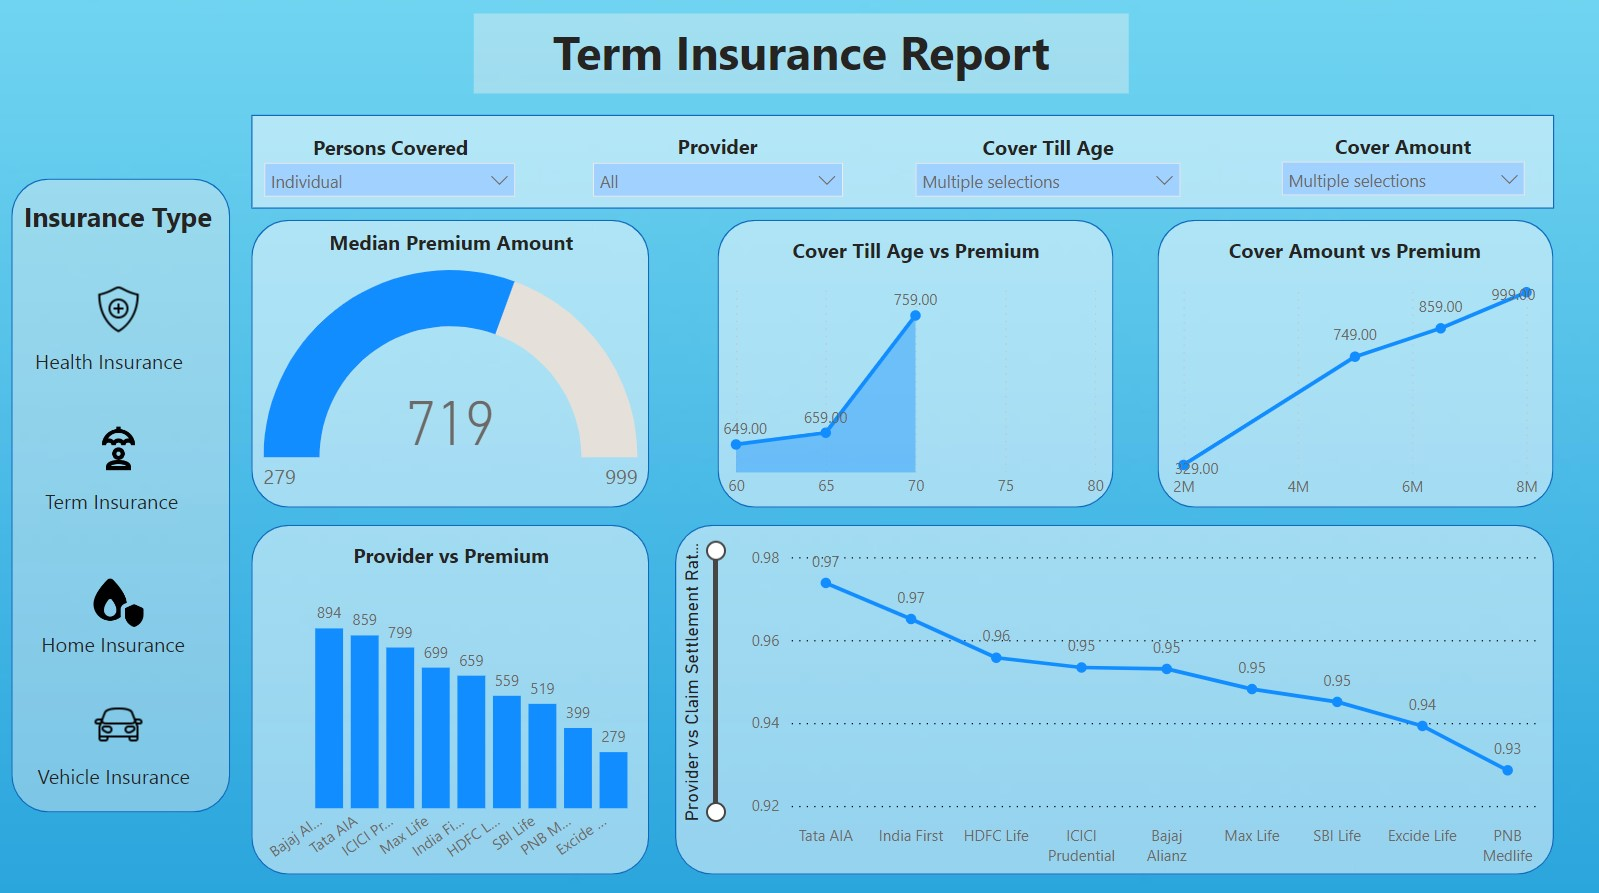

This screenshot's page, from the dashboard's own definition file:
{"tool":"powerbi","page":{"name":"Term Insurance","canvas":[1280,720],"ordinal":0},"visuals":[{"type":"shape","box":[201.4,178.6,317.1,230],"z":0},{"type":"image","box":[70,558.5,50,50],"z":0,"group":"g1"},{"type":"textbox","box":[378.7,14.5,524.6,63.9],"z":1000},{"type":"image","box":[70,460,50,50],"z":1000,"group":"g1"},{"type":"shape","box":[8.6,145.7,175.7,507.1],"z":2000},{"type":"image","box":[70,338.5,50,50],"z":2000,"group":"g1"},{"type":"image","box":[70,225.7,50,50],"z":3000,"group":"g1"},{"type":"group","id":"g1","title":"Group 1","box":[14.3,157.1,170,484.3],"z":3000},{"type":"textbox","box":[14.3,157.1,170,47.1],"z":4000,"group":"g1"},{"type":"shape","box":[201.4,422.9,317.1,280],"z":4000},{"type":"textbox","box":[22.9,275.7,144.3,38.6],"z":5000,"group":"g1"},{"type":"shape","box":[540,422.9,702.9,280],"z":5000},{"type":"shape","box":[201.4,95.3,1042,74.8],"z":6000},{"type":"textbox","box":[31.4,388.5,130,31.4],"z":6000,"group":"g1"},{"type":"textbox","box":[501.7,103.7,144.7,38.6],"z":7000},{"type":"textbox","box":[28.4,501.9,136.3,32.6],"z":7000,"group":"g1"},{"type":"shape","box":[925.7,178.6,317.1,230],"z":8000},{"type":"textbox","box":[25.7,608.5,142.9,32.9],"z":8000,"group":"g1"},{"type":"shape","box":[574.3,178.6,317.1,230],"z":9000},{"type":"slicer","fields":{"Values":["Sheet1.Person Covered"]},"box":[201.4,123,220.7,47],"z":10000},{"type":"slicer","fields":{"Values":["Sheet1.Provider"]},"box":[464.3,123,219.5,47],"z":11000},{"type":"textbox","box":[240,104.9,144.7,38.6],"z":12000},{"type":"slicer","fields":{"Values":["Sheet1.Cover till age"]},"box":[722.4,123,231.6,47],"z":13000},{"type":"textbox","box":[765.8,104.9,144.7,38.6],"z":14000},{"type":"slicer","fields":{"Values":["Sheet1.Life Cover"]},"box":[1015.5,121.8,214.7,47],"z":15000},{"type":"textbox","box":[1050.5,103.7,144.7,38.6],"z":16000},{"type":"textbox","box":[249.6,180.9,221.9,38.6],"z":17000},{"type":"lineChart","fields":{"Category":["Sheet1.Provider"],"Y":["Median(Sheet1.Incurred Claim Ratio)"]},"box":[540.3,430.6,703.1,272.6],"z":18000},{"type":"clusteredColumnChart","fields":{"Category":["Sheet1.Provider"],"Y":["Median(Sheet1.Premium)"]},"box":[201.4,469.1,317.2,234],"z":19000},{"type":"stackedAreaChart","fields":{"Category":["Sheet1.Cover till age"],"Y":["Median(Sheet1.Premium)"]},"box":[574.1,218.3,317.2,191.8],"z":20000},{"type":"textbox","box":[622.3,186.9,221.9,38.6],"z":21000},{"type":"lineChart","fields":{"Category":["Sheet1.Life Cover"],"Y":["Median(Sheet1.Premium)"]},"box":[932.3,219.5,303.9,191.8],"z":22000},{"type":"textbox","box":[973.3,186.9,221.9,38.6],"z":23000},{"type":"textbox","box":[249.6,430.6,221.9,38.6],"z":24000},{"type":"gauge","fields":{"Y":["Median(Sheet1.Premium)"],"MinValue":["Min(Sheet1.Premium)"],"MaxValue":["Max(Sheet1.Premium)1"]},"box":[206.2,203.8,308.7,212.3],"z":25000}]}

Visuals, with their boxes in screenshot pixels (x1, y1, x2, y2), scaled from the page's 1280x720 canvas onto the 1599x893 screenshot:
shape: <box>252,222,648,507</box>
image: <box>87,693,150,755</box>
textbox: <box>473,18,1128,97</box>
image: <box>87,571,150,633</box>
shape: <box>11,181,230,810</box>
image: <box>87,420,150,482</box>
image: <box>87,280,150,342</box>
"Group 1" group: <box>18,195,230,796</box>
textbox: <box>18,195,230,253</box>
shape: <box>252,525,648,872</box>
textbox: <box>29,342,209,390</box>
shape: <box>675,525,1553,872</box>
shape: <box>252,118,1553,211</box>
textbox: <box>39,482,202,521</box>
textbox: <box>627,129,807,176</box>
textbox: <box>35,622,206,663</box>
shape: <box>1156,222,1553,507</box>
textbox: <box>32,755,211,796</box>
shape: <box>717,222,1114,507</box>
slicer - Sheet1.Person Covered: <box>252,153,527,211</box>
slicer - Sheet1.Provider: <box>580,153,854,211</box>
textbox: <box>300,130,481,178</box>
slicer - Sheet1.Cover till age: <box>902,153,1192,211</box>
textbox: <box>957,130,1137,178</box>
slicer - Sheet1.Life Cover: <box>1269,151,1537,209</box>
textbox: <box>1312,129,1493,176</box>
textbox: <box>312,224,589,272</box>
lineChart - Sheet1.Provider x Median(Sheet1.Incurred Claim Ratio): <box>675,534,1553,872</box>
clusteredColumnChart - Sheet1.Provider x Median(Sheet1.Premium): <box>252,582,648,872</box>
stackedAreaChart - Sheet1.Cover till age x Median(Sheet1.Premium): <box>717,271,1113,509</box>
textbox: <box>777,232,1055,280</box>
lineChart - Sheet1.Life Cover x Median(Sheet1.Premium): <box>1165,272,1544,510</box>
textbox: <box>1216,232,1493,280</box>
textbox: <box>312,534,589,582</box>
gauge - Median(Sheet1.Premium) x Min(Sheet1.Premium): <box>258,253,643,516</box>
